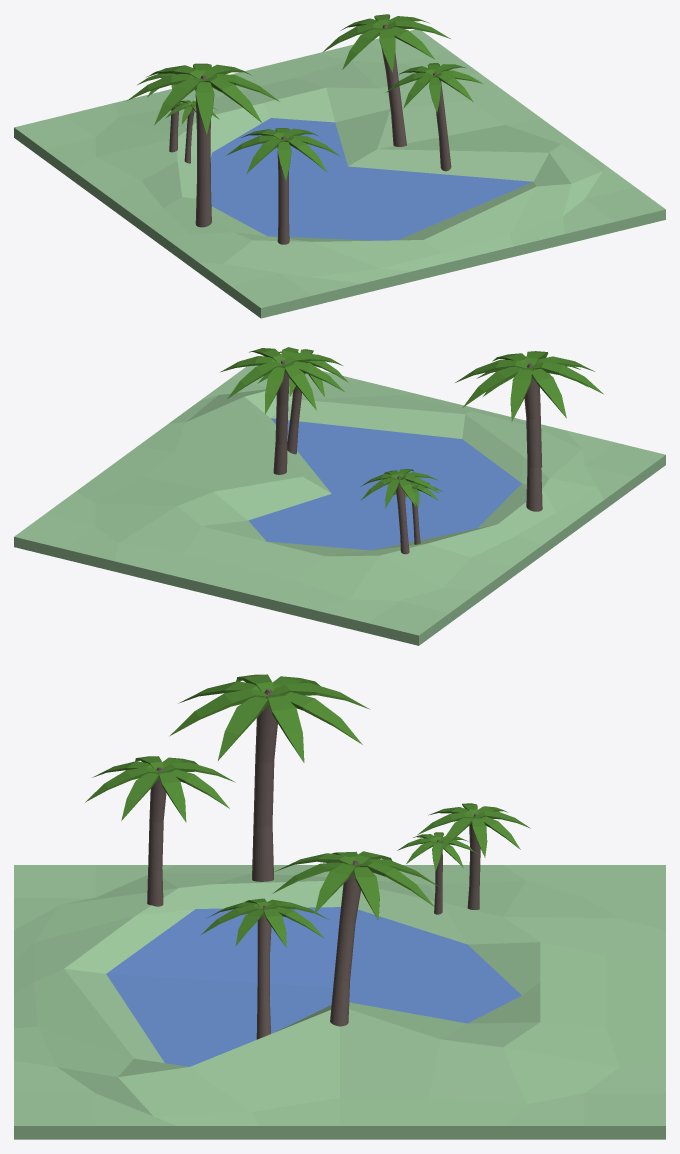
File: Oasis II.fbx
3 views of the same model, one above another, from view 1: azimuth 30°, elevation 25°; view 2: azimuth 150°, elevation 25°; view 3: azimuth 270°, elevation 25° (orthographic). The views are drawn at different scales.
Parts seen in each view (by area): view 1: Oasis II; view 2: Oasis II; view 3: Oasis II.
Part boxes in pixels (x1,y1,x2,y2): Oasis II: (14, 14, 665, 318); Oasis II: (14, 347, 665, 645); Oasis II: (14, 674, 665, 1139).
Size of the model in its own units: 1600 by 581 by 1600.
